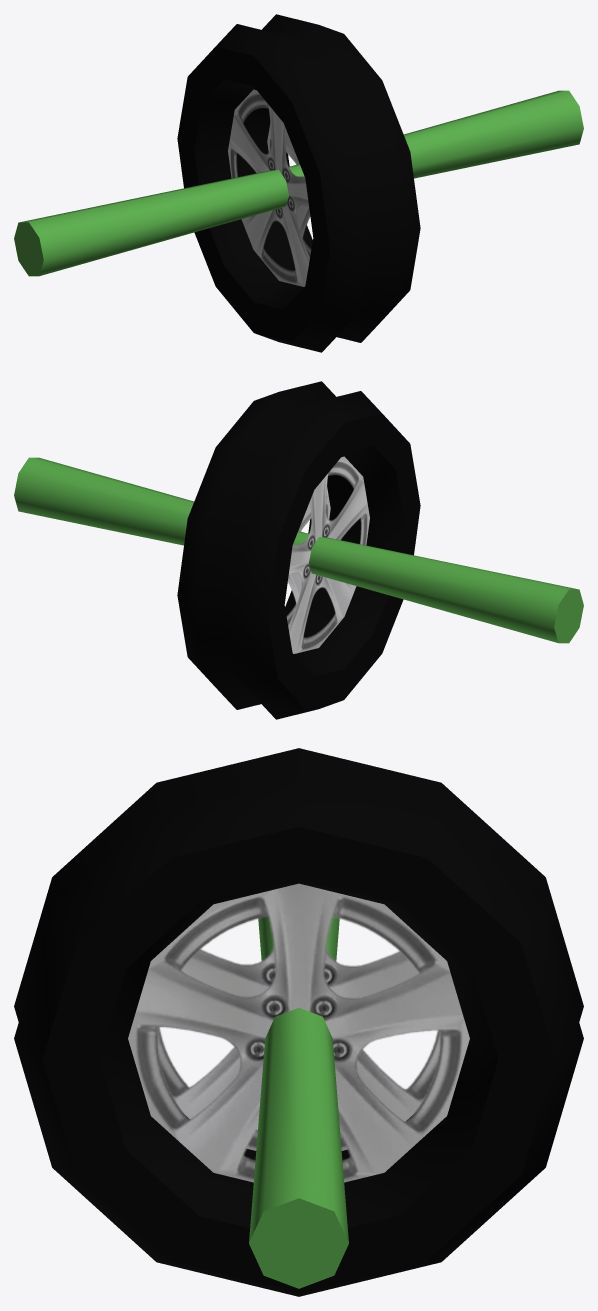
The model's file is exercise-equipment.glb.
3 renders of one model, top to bottom at view 1: azimuth 30°, elevation 25°; view 2: azimuth 150°, elevation 25°; view 3: azimuth 270°, elevation 25°, orthographic. The views are drawn at different scales.
Parts seen in each view (by area): view 1: Torus_001_0, Torus_001_2, Torus_001_1; view 2: Torus_001_0, Torus_001_2, Torus_001_1; view 3: Torus_001_0, Torus_001_1, Torus_001_2.
Boxes of the visible parts, <box> form: Torus_001_0: <box>177,14,420,352</box>; Torus_001_2: <box>14,90,583,276</box>; Torus_001_1: <box>228,89,311,286</box>; Torus_001_0: <box>177,381,420,719</box>; Torus_001_2: <box>14,457,583,643</box>; Torus_001_1: <box>286,456,369,653</box>; Torus_001_0: <box>14,748,583,1296</box>; Torus_001_1: <box>128,883,469,1182</box>; Torus_001_2: <box>249,916,348,1288</box>.
Size of the model in its own units: 1 by 0.5448 by 0.5448.
3 materials, 1 textured.
